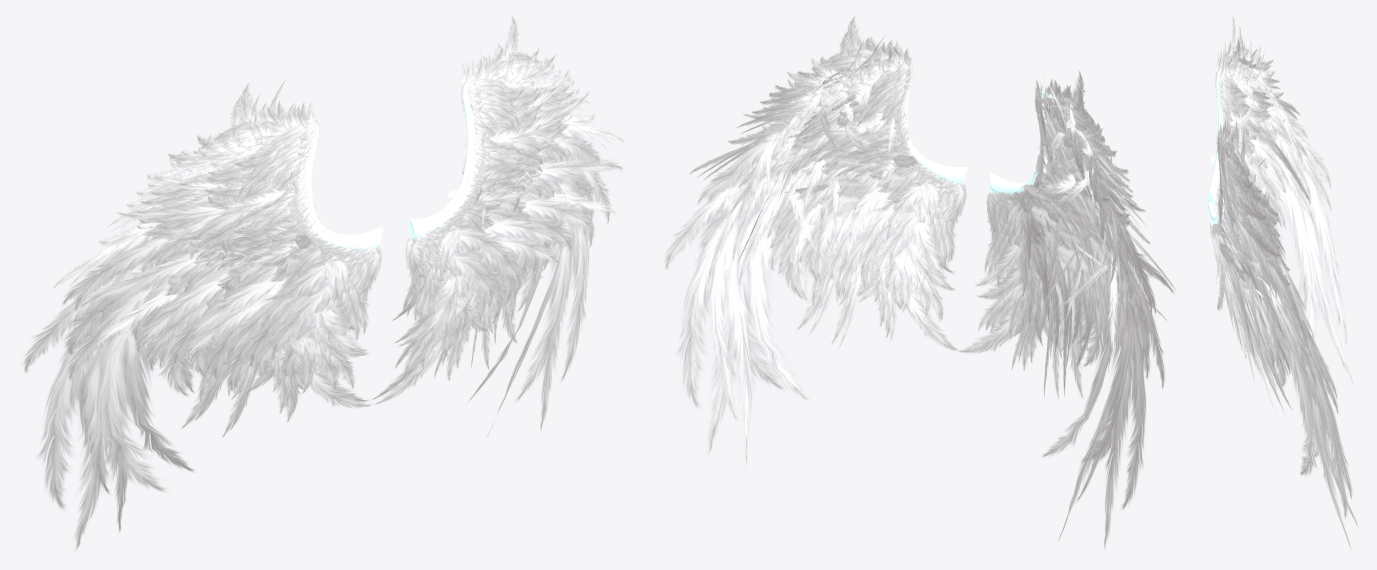
File: featherwings2.glb
The picture shows the model from 3 angles, left to right: view 1: azimuth 30°, elevation 25°; view 2: azimuth 150°, elevation 25°; view 3: azimuth 270°, elevation 25°; orthographic projection. The views are drawn at different scales.
Visible parts, largest first — view 1: polySurface2197_Feather_0, polySurface2631_Feather_0, polySurface2631_Wing_0, polySurface2197_Wing_0; view 2: polySurface2631_Feather_0, polySurface2197_Feather_0, polySurface2631_Wing_0, polySurface2197_Wing_0; view 3: polySurface2631_Feather_0, polySurface2197_Feather_0, polySurface2197_Wing_0, polySurface2631_Wing_0.
Part boxes in pixels (box(x1,y1,x2,y2)): polySurface2197_Feather_0: box(23, 79, 381, 549); polySurface2631_Feather_0: box(372, 16, 624, 436); polySurface2631_Wing_0: box(408, 74, 480, 239); polySurface2197_Wing_0: box(297, 120, 382, 250); polySurface2631_Feather_0: box(664, 17, 966, 465); polySurface2197_Feather_0: box(958, 71, 1175, 548); polySurface2631_Wing_0: box(886, 56, 967, 185); polySurface2197_Wing_0: box(989, 91, 1054, 195); polySurface2631_Feather_0: box(1209, 109, 1358, 548); polySurface2197_Feather_0: box(1210, 16, 1354, 386); polySurface2197_Wing_0: box(1207, 64, 1224, 205); polySurface2631_Wing_0: box(1207, 133, 1228, 226).
Bounding box in the file's own units: 1.8 × 1.43 × 0.5014.
Materials: 2 (2 with a texture image).
